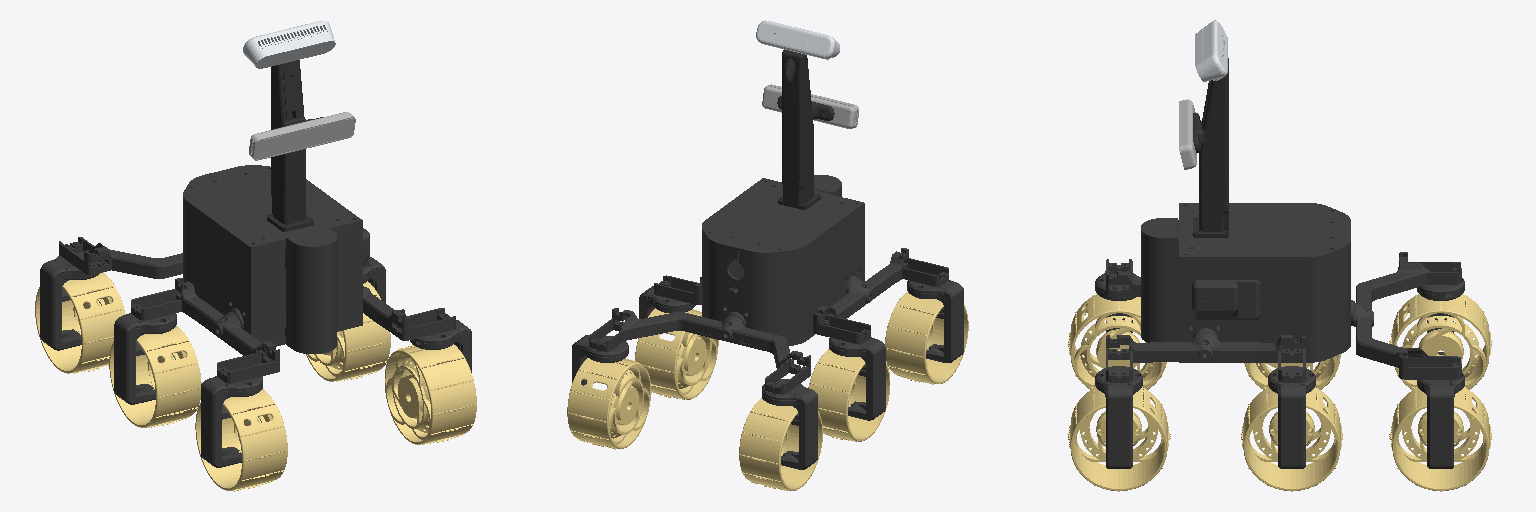
The robot description file, URDF, robot "Exomy_URDF":
<?xml version="1.0" encoding="utf-8"?>
<!-- This URDF was automatically created by SolidWorks to URDF Exporter! Originally created by Stephen Brawner ([email redacted]) 
     Commit Version: 1.6.0-4-g7f85cfe  Build Version: 1.6.7995.38578
     For more information, please see http://wiki.ros.org/sw_urdf_exporter -->
<robot
  name="Exomy_URDF">
  <link
    name="base_link">
    <inertial>
      <origin
        xyz="0.00045536 -0.012468 0.054611"
        rpy="0 0 0" />
      <mass
        value="0.3218" />
      <inertia
        ixx="0.0010882"
        ixy="-6.6084E-06"
        ixz="7.9122E-06"
        iyy="0.00080227"
        iyz="3.9237E-06"
        izz="0.0013151" />
    </inertial>
    <visual>
      <origin
        xyz="0 0 0"
        rpy="0 0 0" />
      <geometry>
        <mesh
          filename="package://meshes/base_link.STL" />
      </geometry>
      <material
        name="color">
        <color
          rgba="0.29804 0.29804 0.29804 1" />
      </material>
    </visual>
    <collision>
      <origin
        xyz="0 0 0"
        rpy="0 0 0" />
      <geometry>
        <mesh
          filename="package://meshes/base_link.STL" />
      </geometry>
    </collision>
  </link>
  <link
    name="Mast">
    <inertial>
      <origin
        xyz="3.66089460873017E-10 0.08233304315001 -0.00290010879314957"
        rpy="0 0 0" />
      <mass
        value="0.0635336585695427" />
      <inertia
        ixx="0.000152420978940258"
        ixy="-9.68556684554813E-11"
        ixz="-1.73821809057202E-11"
        iyy="1.17584014785884E-05"
        iyz="5.60852483282308E-06"
        izz="0.000152302280544561" />
    </inertial>
    <visual>
      <origin
        xyz="0 0 0"
        rpy="0 0 0" />
      <geometry>
        <mesh
          filename="package://meshes/Mast.STL" />
      </geometry>
      <material
        name="color">
        <color
          rgba="0.250980392156863 0.250980392156863 0.250980392156863 1" />
      </material>
    </visual>
    <collision>
      <origin
        xyz="0 0 0"
        rpy="0 0 0" />
      <geometry>
        <mesh
          filename="package://meshes/Mast.STL" />
      </geometry>
    </collision>
  </link>
  <joint
    name="Mast_Joint"
    type="fixed">
    <origin
      xyz="0 -0.05 0.108"
      rpy="1.5708 0 0" />
    <parent
      link="base_link" />
    <child
      link="Mast" />
    <axis
      xyz="0 0 0" />
  </joint>
  <link
    name="3D_Cam">
    <inertial>
      <origin
        xyz="1.1394E-05 -0.00013598 0.011556"
        rpy="0 0 0" />
      <mass
        value="0.10791" />
      <inertia
        ixx="7.7102E-06"
        ixy="-2.6172E-10"
        ixz="-1.7931E-08"
        iyy="7.0257E-05"
        iyz="4.9224E-08"
        izz="7.1255E-05" />
    </inertial>
    <visual>
      <origin
        xyz="0 0 0"
        rpy="0 0 0" />
      <geometry>
        <mesh
          filename="package://meshes/3D_Cam.STL" />
      </geometry>
      <material
        name="color">
        <color
          rgba="0.89804 0.91765 0.92941 1" />
      </material>
    </visual>
    <collision>
      <origin
        xyz="0 0 0"
        rpy="0 0 0" />
      <geometry>
        <mesh
          filename="package://meshes/3D_Cam.STL" />
      </geometry>
    </collision>
  </link>
  <joint
    name="3D_Cam_Joint"
    type="fixed">
    <origin
      xyz="0 0.18695 -0.010942"
      rpy="0.50615 0 0" />
    <parent
      link="Mast" />
    <child
      link="3D_Cam" />
    <axis
      xyz="0 0 0" />
  </joint>
  <link
    name="Tracking_Cam">
    <inertial>
      <origin
        xyz="0.00084895 9.5451E-06 -0.007004"
        rpy="0 0 0" />
      <mass
        value="0.015352" />
      <inertia
        ixx="9.4142E-07"
        ixy="4.366E-09"
        ixz="-1.3466E-08"
        iyy="1.324E-05"
        iyz="-1.906E-09"
        izz="1.3936E-05" />
    </inertial>
    <visual>
      <origin
        xyz="0 0 0"
        rpy="0 0 0" />
      <geometry>
        <mesh
          filename="package://meshes/Tracking_Cam.STL" />
      </geometry>
      <material
        name="color">
        <color
          rgba="0.75294 0.75294 0.75294 1" />
      </material>
    </visual>
    <collision>
      <origin
        xyz="0 0 0"
        rpy="0 0 0" />
      <geometry>
        <mesh
          filename="package://meshes/Tracking_Cam.STL" />
      </geometry>
    </collision>
  </link>
  <joint
    name="Tracking_Cam_Joint"
    type="fixed">
    <origin
      xyz="0 0.096086 0.026963"
      rpy="0.22974 0 0" />
    <parent
      link="Mast" />
    <child
      link="Tracking_Cam" />
    <axis
      xyz="0 0 0" />
  </joint>
  <link
    name="Right_Bogie">
    <inertial>
      <origin
        xyz="-5.5394E-09 0.001854 -0.024649"
        rpy="0 0 0" />
      <mass
        value="0.094548" />
      <inertia
        ixx="2.3035E-05"
        ixy="2.7556E-11"
        ixz="-8.4318E-13"
        iyy="0.00012309"
        iyz="4.1834E-07"
        izz="0.00011372" />
    </inertial>
    <visual>
      <origin
        xyz="0 0 0"
        rpy="0 0 0" />
      <geometry>
        <mesh
          filename="package://meshes/Right_Bogie.STL" />
      </geometry>
      <material
        name="color">
        <color
          rgba="0.29804 0.29804 0.29804 1" />
      </material>
    </visual>
    <collision>
      <origin
        xyz="0 0 0"
        rpy="0 0 0" />
      <geometry>
        <mesh
          filename="package://meshes/Right_Bogie.STL" />
      </geometry>
    </collision>
  </link>
  <joint
    name="Right_Bogie_Joint"
    type="revolute">
    <origin
      xyz="-0.064 -0.055 0.0247"
      rpy="-1.5708 0 -1.5708" />
    <parent
      link="base_link" />
    <child
      link="Right_Bogie" />
    <axis
      xyz="-1 0 0" />
    <limit
      lower="-0.47"
      upper="0.47"
      veffort="0.0"
      velocity="1.0" />
  </joint>
  <link
    name="CR_Steer">
    <inertial>
      <origin
        xyz="0.01203363471761 -0.0406229138422982 -0.000222359376198283"
        rpy="0 0 0" />
      <mass
        value="0.0721879173626643" />
      <inertia
        ixx="3.37876859422885E-05"
        ixy="4.74139030421875E-06"
        ixz="-8.07843941765975E-09"
        iyy="1.59707176313992E-05"
        iyz="1.40508548795602E-07"
        izz="4.11148929986377E-05" />
    </inertial>
    <visual>
      <origin
        xyz="0 0 0"
        rpy="0 0 0" />
      <geometry>
        <mesh
          filename="package://meshes/CR_Steer.STL" />
      </geometry>
      <material
        name="color">
        <color
          rgba="0.298039215686275 0.298039215686275 0.298039215686275 1" />
      </material>
    </visual>
    <collision>
      <origin
        xyz="0 0 0"
        rpy="0 0 0" />
      <geometry>
        <mesh
          filename="package://meshes/CR_Steer.STL" />
      </geometry>
    </collision>
  </link>
  <joint
    name="CR_Steer_Joint"
    type="revolute">
    <origin
      xyz="-0.08 0.016586 -0.039776"
      rpy="3.1416 1.5708 0" />
    <parent
      link="Right_Bogie" />
    <child
      link="CR_Steer" />
    <axis
      xyz="0 1 0" />
    <limit
      lower="-1.57"
      upper="1.57"
      effort="0.27"
      velocity="5.2" />
  </joint>
  <link
    name="CR_Drive">
    <inertial>
      <origin
        xyz="-0.016065 -0.00015627 -0.00020897"
        rpy="0 0 0" />
      <mass
        value="0.059839" />
      <inertia
        ixx="7.9779E-05"
        ixy="-7.7915E-09"
        ixz="-7.1726E-08"
        iyy="5.1523E-05"
        iyz="3.9137E-07"
        izz="5.1536E-05" />
    </inertial>
    <visual>
      <origin
        xyz="0 0 0"
        rpy="0 0 0" />
      <geometry>
        <mesh
          filename="package://meshes/CR_Drive.STL" />
      </geometry>
      <material
        name="color">
        <color
          rgba="0.96863 0.87843 0.6 1" />
      </material>
    </visual>
    <collision>
      <origin
        xyz="0 0 0"
        rpy="0 0 0" />
      <geometry>
        <mesh
          filename="package://meshes/CR_Drive.STL" />
      </geometry>
    </collision>
  </link>
  <joint
    name="CR_Drive_Joint"
    type="continuous">
    <origin
      xyz="-0.026386 -0.063776 0"
      rpy="3.1416 0 3.1416" />
    <parent
      link="CR_Steer" />
    <child
      link="CR_Drive" />
    <axis
      xyz="1 0 0" />
    <limit
      effort="0.27"
      velocity="5.2" />
  </joint>
  <link
    name="FR_Steer">
    <inertial>
      <origin
        xyz="0.0119629306207104 -0.0406897111505116 -0.000220177394379573"
        rpy="0 0 0" />
      <mass
        value="0.0714737501116121" />
      <inertia
        ixx="3.32440932757159E-05"
        ixy="4.64777116749978E-06"
        ixz="-7.91976339595232E-09"
        iyy="1.57679798308961E-05"
        iyz="1.37753534821621E-07"
        izz="4.04701347498821E-05" />
    </inertial>
    <visual>
      <origin
        xyz="0 0 0"
        rpy="0 0 0" />
      <geometry>
        <mesh
          filename="package://meshes/FR_steer.STL" />
      </geometry>
      <material
        name="color">
        <color
          rgba="0.298039215686275 0.298039215686275 0.298039215686275 1" />
      </material>
    </visual>
    <collision>
      <origin
        xyz="0 0 0"
        rpy="0 0 0" />
      <geometry>
        <mesh
          filename="package://meshes/FR_steer.STL" />
      </geometry>
    </collision>
  </link>
  <joint
    name="FR_Steer_Joint"
    type="revolute">
    <origin
      xyz="0.08 0.016586 -0.039776"
      rpy="3.1416 1.5708 0" />
    <parent
      link="Right_Bogie" />
    <child
      link="FR_Steer" />
    <axis
      xyz="0 1 0" />
    <limit
      lower="-1.57"
      upper="1.57"
      effort="0.27"
      velocity="5.2" />
  </joint>
  <link
    name="FR_Drive">
    <inertial>
      <origin
        xyz="-0.016065 -0.00015627 -0.00020897"
        rpy="0 0 0" />
      <mass
        value="0.059839" />
      <inertia
        ixx="7.9779E-05"
        ixy="-7.7915E-09"
        ixz="-7.1726E-08"
        iyy="5.1523E-05"
        iyz="3.9137E-07"
        izz="5.1536E-05" />
    </inertial>
    <visual>
      <origin
        xyz="0 0 0"
        rpy="0 0 0" />
      <geometry>
        <mesh
          filename="package://meshes/FR_Drive.STL" />
      </geometry>
      <material
        name="color">
        <color
          rgba="0.96863 0.87843 0.6 1" />
      </material>
    </visual>
    <collision>
      <origin
        xyz="0 0 0"
        rpy="0 0 0" />
      <geometry>
        <mesh
          filename="package://meshes/FR_Drive.STL" />
      </geometry>
    </collision>
  </link>
  <joint
    name="FR_Drive_Joint"
    type="continuous">
    <origin
      xyz="-0.026386 -0.063776 0"
      rpy="3.1416 0 3.1416" />
    <parent
      link="FR_Steer" />
    <child
      link="FR_Drive" />
    <axis
      xyz="1 0 0" />
    <limit
      effort="0.27"
      velocity="5.2" />
  </joint>
  <link
    name="Left_Bogie">
    <inertial>
      <origin
        xyz="-5.53942688247266E-09 -0.00185398288266573 0.024649299715712"
        rpy="0 0 0" />
      <mass
        value="0.0945481157691983" />
      <inertia
        ixx="2.3035215404404E-05"
        ixy="-2.75560711362092E-11"
        ixz="8.43178696343352E-13"
        iyy="0.000123085331415863"
        iyz="4.18340958497994E-07"
        izz="0.000113717182054983" />
    </inertial>
    <visual>
      <origin
        xyz="0 0 0"
        rpy="0 0 0" />
      <geometry>
        <mesh
          filename="package://meshes/Left_Bogie.STL" />
      </geometry>
      <material
        name="color">
        <color
          rgba="0.298039215686275 0.298039215686275 0.298039215686275 1" />
      </material>
    </visual>
    <collision>
      <origin
        xyz="0 0 0"
        rpy="0 0 0" />
      <geometry>
        <mesh
          filename="package://meshes/Left_Bogie.STL" />
      </geometry>
    </collision>
  </link>
  <joint
    name="Left_Bogie_Joint"
    type="revolute">
    <origin
      xyz="0.064 -0.055 0.0247"
      rpy="1.5708 0 1.5708" />
    <parent
      link="base_link" />
    <child
      link="Left_Bogie" />
    <axis
      xyz="0 0 1" />
    <limit
      lower="-0.47"
      upper="0.47"
      veffort="0.0"
      velocity="1.0" />
  </joint>
  <link
    name="CL_Steer">
    <inertial>
      <origin
        xyz="0.0119629306207103 -0.0406897111505118 -0.000220177394379541"
        rpy="0 0 0" />
      <mass
        value="0.0714737501116116" />
      <inertia
        ixx="3.32440932757157E-05"
        ixy="4.64777116749992E-06"
        ixz="-7.91976339595595E-09"
        iyy="1.57679798308961E-05"
        iyz="1.37753534821613E-07"
        izz="4.04701347498818E-05" />
    </inertial>
    <visual>
      <origin
        xyz="0 0 0"
        rpy="0 0 0" />
      <geometry>
        <mesh
          filename="package://meshes/CL_Steer.STL" />
      </geometry>
      <material
        name="color">
        <color
          rgba="0.298039215686275 0.298039215686275 0.298039215686275 1" />
      </material>
    </visual>
    <collision>
      <origin
        xyz="0 0 0"
        rpy="0 0 0" />
      <geometry>
        <mesh
          filename="package://meshes/CL_Steer.STL" />
      </geometry>
    </collision>
  </link>
  <joint
    name="CL_Steer_Joint"
    type="revolute">
    <origin
      xyz="0.08 -0.016586 0.039776"
      rpy="0 -1.5708 0" />
    <parent
      link="Left_Bogie" />
    <child
      link="CL_Steer" />
    <axis
      xyz="0 1 0" />
    <limit
      lower="-1.57"
      upper="1.57"
      effort="0.27"
      velocity="5.2" />
  </joint>
  <link
    name="CL_Drive">
    <inertial>
      <origin
        xyz="-0.016065 -0.00015627 -0.00020897"
        rpy="0 0 0" />
      <mass
        value="0.059839" />
      <inertia
        ixx="7.9779E-05"
        ixy="-7.7915E-09"
        ixz="-7.1726E-08"
        iyy="5.1523E-05"
        iyz="3.9137E-07"
        izz="5.1536E-05" />
    </inertial>
    <visual>
      <origin
        xyz="0 0 0"
        rpy="0 0 0" />
      <geometry>
        <mesh
          filename="package://meshes/CL_Drive.STL" />
      </geometry>
      <material
        name="color">
        <color
          rgba="0.96863 0.87843 0.6 1" />
      </material>
    </visual>
    <collision>
      <origin
        xyz="0 0 0"
        rpy="0 0 0" />
      <geometry>
        <mesh
          filename="package://meshes/CL_Drive.STL" />
      </geometry>
    </collision>
  </link>
  <joint
    name="CL_Drive_Joint"
    type="continuous">
    <origin
      xyz="-0.026386 -0.063776 0"
      rpy="-3.1416 0 3.1416" />
    <parent
      link="CL_Steer" />
    <child
      link="CL_Drive" />
    <axis
      xyz="-1 0 0" />
    <limit
      effort="0.27"
      velocity="5.2" />
  </joint>
  <link
    name="FL_Steer">
    <inertial>
      <origin
        xyz="-0.0120336347176097 -0.0361229138422982 0.00022235937619805"
        rpy="0 0 0" />
      <mass
        value="0.0721879173626638" />
      <inertia
        ixx="3.37876859422883E-05"
        ixy="-4.74139030421896E-06"
        ixz="-8.07843941766599E-09"
        iyy="1.59707176313992E-05"
        iyz="-1.40508548795604E-07"
        izz="4.11148929986375E-05" />
    </inertial>
    <visual>
      <origin
        xyz="0 0 0"
        rpy="0 0 0" />
      <geometry>
        <mesh
          filename="package://meshes/FL_Steer.STL" />
      </geometry>
      <material
        name="color">
        <color
          rgba="0.298039215686275 0.298039215686275 0.298039215686275 1" />
      </material>
    </visual>
    <collision>
      <origin
        xyz="0 0 0"
        rpy="0 0 0" />
      <geometry>
        <mesh
          filename="package://meshes/FL_Steer.STL" />
      </geometry>
    </collision>
  </link>
  <joint
    name="FL_Steer_Joint"
    type="revolute">
    <origin
      xyz="-0.08 -0.021086 0.039776"
      rpy="0 1.5708 0" />
    <parent
      link="Left_Bogie" />
    <child
      link="FL_Steer" />
    <axis
      xyz="0 1 0" />
    <limit
      lower="-1.57"
      upper="1.57"
      effort="0.27"
      velocity="5.2" />
  </joint>
  <link
    name="FL_Drive">
    <inertial>
      <origin
        xyz="0.0065655 -0.00015627 0.00020897"
        rpy="0 0 0" />
      <mass
        value="0.059839" />
      <inertia
        ixx="7.9779E-05"
        ixy="7.7915E-09"
        ixz="-7.1726E-08"
        iyy="5.1523E-05"
        iyz="-3.9137E-07"
        izz="5.1536E-05" />
    </inertial>
    <visual>
      <origin
        xyz="0 0 0"
        rpy="0 0 0" />
      <geometry>
        <mesh
          filename="package://meshes/FL_Drive.STL" />
      </geometry>
      <material
        name="color">
        <color
          rgba="0.96863 0.87843 0.6 1" />
      </material>
    </visual>
    <collision>
      <origin
        xyz="0 0 0"
        rpy="0 0 0" />
      <geometry>
        <mesh
          filename="package://meshes/FL_Drive.STL" />
      </geometry>
    </collision>
  </link>
  <joint
    name="FL_Drive_Joint"
    type="continuous">
    <origin
      xyz="0.016886 -0.059276 0"
      rpy="3.1416 0 3.1416" />
    <parent
      link="FL_Steer" />
    <child
      link="FL_Drive" />
    <axis
      xyz="1 0 0" />
    <limit
      effort="0.27"
      velocity="5.2" />
  </joint>
  <link
    name="Rear_Bogie">
    <inertial>
      <origin
        xyz="0 0 0"
        rpy="0 0 0" />
      <mass
        value="0" />
      <inertia
        ixx="0"
        ixy="0"
        ixz="0"
        iyy="0"
        iyz="0"
        izz="0" />
    </inertial>
    <visual>
      <origin
        xyz="0 0 0"
        rpy="0 0 0" />
      <geometry>
        <mesh
          filename="package://meshes/Rear_Bogie.STL" />
      </geometry>
      <material
        name="color">
        <color
          rgba="0.298039215686275 0.298039215686275 0.298039215686275 1" />
      </material>
    </visual>
    <collision>
      <origin
        xyz="0 0 0"
        rpy="0 0 0" />
      <geometry>
        <mesh
          filename="package://meshes/Rear_Bogie.STL" />
      </geometry>
    </collision>
  </link>
  <joint
    name="Rear_Bogie_Joint"
    type="revolute">
    <origin
      xyz="0 0.084 0.0247"
      rpy="1.5708 0 -3.1416" />
    <parent
      link="base_link" />
    <child
      link="Rear_Bogie" />
    <axis
      xyz="0 0 1" />
    <limit
      lower="-0.47"
      upper="0.47"
      veffort="0.0"
      velocity="1.0" />
  </joint>
  <link
    name="RR_Steer">
    <inertial>
      <origin
        xyz="0.0119629306207103 -0.0406897111505123 -0.000220177394379212"
        rpy="0 0 0" />
      <mass
        value="0.0714737501116104" />
      <inertia
        ixx="3.32440932757152E-05"
        ixy="4.64777116749984E-06"
        ixz="-7.91976339616711E-09"
        iyy="1.5767979830896E-05"
        iyz="1.37753534821875E-07"
        izz="4.04701347498814E-05" />
    </inertial>
    <visual>
      <origin
        xyz="0 0 0"
        rpy="0 0 0" />
      <geometry>
        <mesh
          filename="package://meshes/RR_Steer.STL" />
      </geometry>
      <material
        name="color">
        <color
          rgba="0.298039215686275 0.298039215686275 0.298039215686275 1" />
      </material>
    </visual>
    <collision>
      <origin
        xyz="0 0 0"
        rpy="0 0 0" />
      <geometry>
        <mesh
          filename="package://meshes/RR_Steer.STL" />
      </geometry>
    </collision>
  </link>
  <joint
    name="RR_Steer_Joint"
    type="revolute">
    <origin
      xyz="0.10378 -0.016586 0.078776"
      rpy="0 0 0" />
    <parent
      link="Rear_Bogie" />
    <child
      link="RR_Steer" />
    <axis
      xyz="0 1 0" />
    <limit
      lower="-1.57"
      upper="1.57"
      effort="0.27"
      velocity="5.2" />
  </joint>
  <link
    name="RR_Drive">
    <inertial>
      <origin
        xyz="-0.016065 -0.00015627 -0.00020897"
        rpy="0 0 0" />
      <mass
        value="0.059839" />
      <inertia
        ixx="7.9779E-05"
        ixy="-7.7915E-09"
        ixz="-7.1726E-08"
        iyy="5.1523E-05"
        iyz="3.9137E-07"
        izz="5.1536E-05" />
    </inertial>
    <visual>
      <origin
        xyz="0 0 0"
        rpy="0 0 0" />
      <geometry>
        <mesh
          filename="package://meshes/RR_Drive.STL" />
      </geometry>
      <material
        name="color">
        <color
          rgba="0.96863 0.87843 0.6 1" />
      </material>
    </visual>
    <collision>
      <origin
        xyz="0 0 0"
        rpy="0 0 0" />
      <geometry>
        <mesh
          filename="package://meshes/RR_Drive.STL" />
      </geometry>
    </collision>
  </link>
  <joint
    name="RR_Drive_Joint"
    type="continuous">
    <origin
      xyz="-0.026386 -0.063776 0"
      rpy="3.1416 0 3.1416" />
    <parent
      link="RR_Steer" />
    <child
      link="RR_Drive" />
    <axis
      xyz="1 0 0" />
    <limit
      effort="0.27"
      velocity="5.2" />
  </joint>
  <link
    name="RL_Steer">
    <inertial>
      <origin
        xyz="0.012034 -0.040623 -0.00022236"
        rpy="0 0 0" />
      <mass
        value="0.072188" />
      <inertia
        ixx="3.3788E-05"
        ixy="4.7414E-06"
        ixz="-8.0784E-09"
        iyy="1.5971E-05"
        iyz="1.4051E-07"
        izz="4.1115E-05" />
    </inertial>
    <visual>
      <origin
        xyz="0 0 0"
        rpy="0 0 0" />
      <geometry>
        <mesh
          filename="package://meshes/RL_Steer.STL" />
      </geometry>
      <material
        name="color">
        <color
          rgba="0.298039215686275 0.298039215686275 0.298039215686275 1" />
      </material>
    </visual>
    <collision>
      <origin
        xyz="0 0 0"
        rpy="0 0 0" />
      <geometry>
        <mesh
          filename="package://meshes/RL_Steer.STL" />
      </geometry>
    </collision>
  </link>
  <joint
    name="RL_Steer_Joint"
    type="revolute">
    <origin
      xyz="-0.10378 -0.016586 0.078776"
      rpy="3.1416 0 -3.1416" />
    <parent
      link="Rear_Bogie" />
    <child
      link="RL_Steer" />
    <axis
      xyz="0 1 0" />
    <limit
      lower="-1.57"
      upper="1.57"
      effort="0.27"
      velocity="5.2" />
  </joint>
  <link
    name="RL_Drive">
    <inertial>
      <origin
        xyz="-0.016065 -0.00015627 -0.00020897"
        rpy="0 0 0" />
      <mass
        value="0.059839" />
      <inertia
        ixx="7.9779E-05"
        ixy="-7.7915E-09"
        ixz="-7.1726E-08"
        iyy="5.1523E-05"
        iyz="3.9137E-07"
        izz="5.1536E-05" />
    </inertial>
    <visual>
      <origin
        xyz="0 0 0"
        rpy="0 0 0" />
      <geometry>
        <mesh
          filename="package://meshes/RL_Drive.STL" />
      </geometry>
      <material
        name="color">
        <color
          rgba="0.96863 0.87843 0.6 1" />
      </material>
    </visual>
    <collision>
      <origin
        xyz="0 0 0"
        rpy="0 0 0" />
      <geometry>
        <mesh
          filename="package://meshes/RL_Drive.STL" />
      </geometry>
    </collision>
  </link>
  <joint
    name="RL_Drive_Joint"
    type="continuous">
    <origin
      xyz="-0.026386 -0.063776 0"
      rpy="-3.1416 0 3.1416" />
    <parent
      link="RL_Steer" />
    <child
      link="RL_Drive" />
    <axis
      xyz="-1 0 0" />
    <limit
      effort="0.27"
      velocity="5.2" />
  </joint>
</robot>

--- What the picture shows (computed from the rendered views, not written in the file) ---
3 views of the same robot in one strip: view 1: azimuth 30°, elevation 25°; view 2: azimuth 150°, elevation 25°; view 3: azimuth 270°, elevation 25° (orthographic).
Robot: Exomy_URDF — 19 links, 18 joints (9 revolute, 6 continuous, 3 fixed); root link base_link; default pose: every joint at zero.
Links seen in each view (by area): view 1: base_link, FL_Drive, FR_Drive, CR_Drive, Right_Bogie, RR_Drive, Mast, CL_Drive, CR_Steer, FR_Steer, Tracking_Cam, 3D_Cam (+5 smaller); view 2: base_link, RL_Drive, Rear_Bogie, Mast, RR_Drive, FR_Drive, CL_Drive, Right_Bogie, CR_Drive, CR_Steer, RR_Steer, FR_Steer (+5 smaller); view 3: base_link, Rear_Bogie, FL_Drive, RL_Drive, CL_Drive, RR_Drive, Left_Bogie, Mast, FR_Drive, CL_Steer, FL_Steer, RL_Steer (+5 smaller).
Link boxes in pixels (bbox=[...]): base_link: bbox=[183, 165, 369, 353]; FL_Drive: bbox=[385, 344, 476, 444]; FR_Drive: bbox=[195, 389, 287, 491]; CR_Drive: bbox=[109, 326, 201, 427]; Right_Bogie: bbox=[131, 278, 279, 383]; RR_Drive: bbox=[35, 272, 125, 373]; Mast: bbox=[267, 60, 322, 231]; CL_Drive: bbox=[306, 281, 390, 381]; CR_Steer: bbox=[114, 313, 176, 404]; FR_Steer: bbox=[201, 376, 262, 467]; Tracking_Cam: bbox=[249, 112, 355, 160]; 3D_Cam: bbox=[243, 21, 335, 68]; base_link: bbox=[702, 175, 864, 345]; RL_Drive: bbox=[567, 358, 650, 449]; Rear_Bogie: bbox=[589, 308, 810, 394]; Mast: bbox=[777, 49, 834, 209]; RR_Drive: bbox=[739, 398, 822, 490]; FR_Drive: bbox=[885, 292, 968, 384]; CL_Drive: bbox=[635, 308, 718, 399]; Right_Bogie: bbox=[813, 248, 948, 343]; CR_Drive: bbox=[808, 349, 889, 441]; CR_Steer: bbox=[829, 337, 885, 420]; RR_Steer: bbox=[762, 379, 817, 469]; FR_Steer: bbox=[907, 280, 963, 362]; base_link: bbox=[1141, 203, 1355, 362]; Rear_Bogie: bbox=[1354, 252, 1461, 379]; FL_Drive: bbox=[1068, 387, 1170, 491]; RL_Drive: bbox=[1389, 387, 1491, 491]; CL_Drive: bbox=[1241, 387, 1342, 491]; RR_Drive: bbox=[1389, 294, 1491, 389]; Left_Bogie: bbox=[1106, 334, 1305, 382]; Mast: bbox=[1193, 58, 1228, 237]; FR_Drive: bbox=[1068, 294, 1166, 389]; CL_Steer: bbox=[1268, 366, 1315, 468]; FL_Steer: bbox=[1095, 366, 1142, 468]; RL_Steer: bbox=[1417, 373, 1464, 468].
Size in the robot's own frame: 0.2786 by 0.3929 by 0.4075 metres.
Meshes: 19 distinct files referenced, 19 mesh visuals loaded (19 binary STL).
